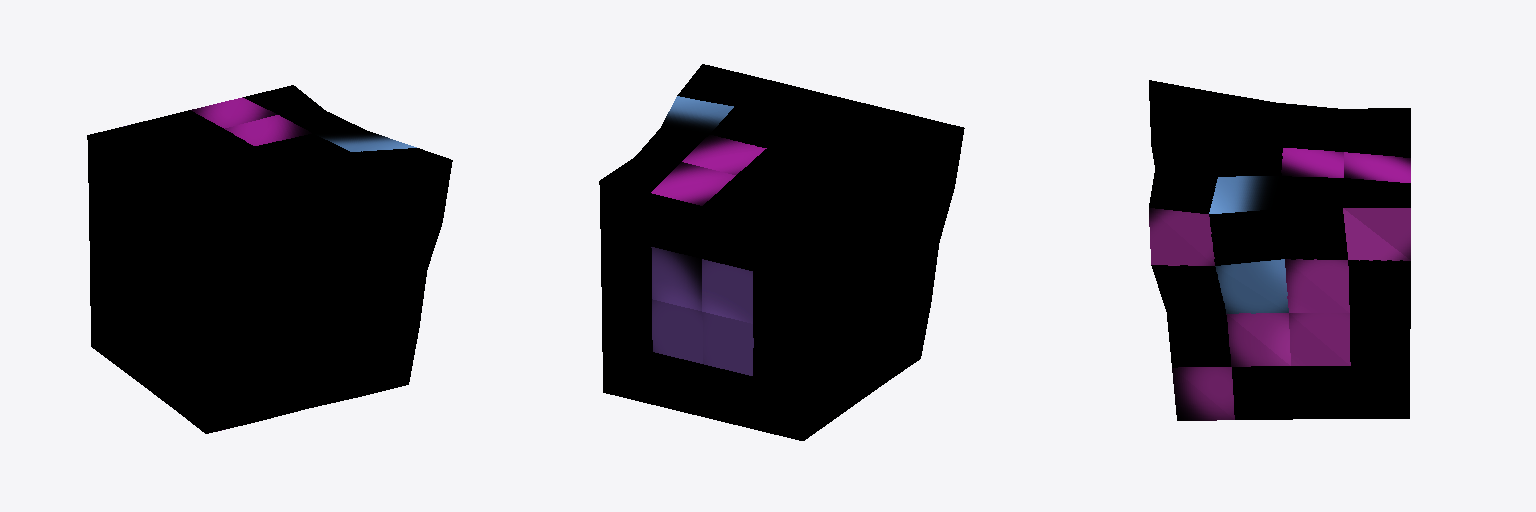
The picture shows the model from 3 angles: view 1: azimuth 30°, elevation 25°; view 2: azimuth 150°, elevation 25°; view 3: azimuth 270°, elevation 25°; orthographic projection.
Visible parts, largest first — view 1: Cube; view 2: Cube; view 3: Cube.
Boxes of the visible parts, box(x1,y1,x2,y2) form: Cube: box(87, 85, 452, 433); Cube: box(599, 64, 964, 440); Cube: box(1149, 80, 1410, 420).
Size of the model in its own units: 2.62 by 2.22 by 2.27.
Materials: 1 (1 with a texture image).